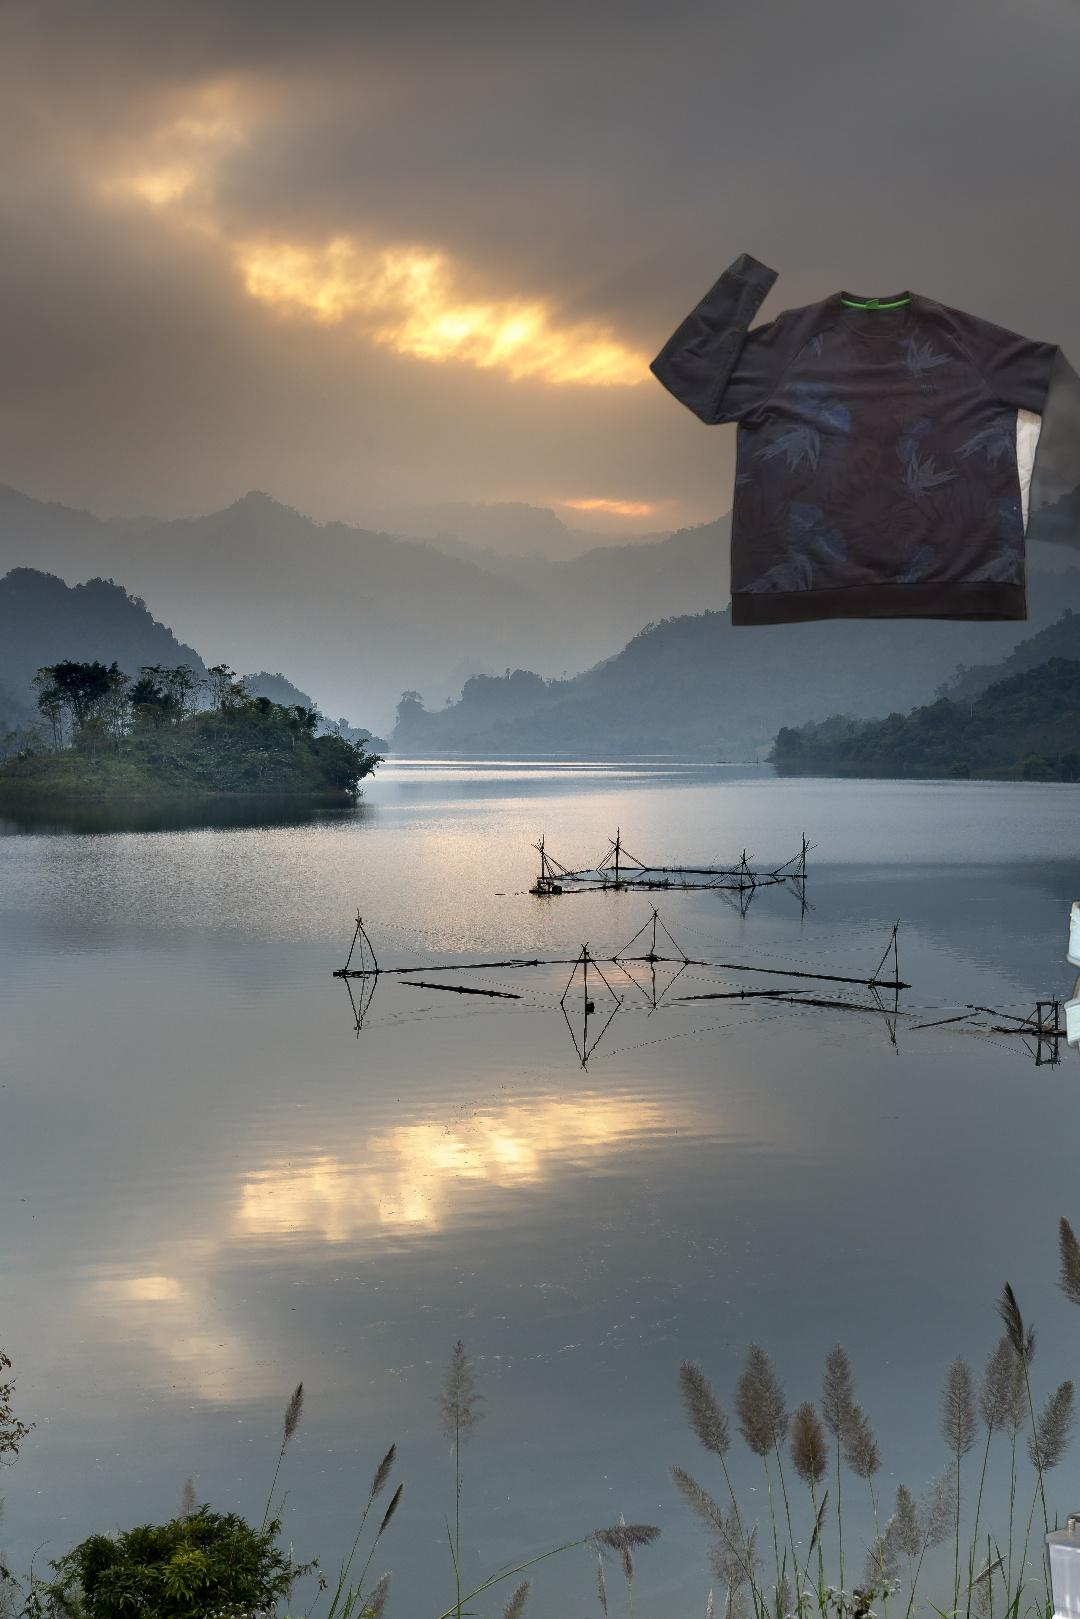battery: (1041, 1501, 1080, 1619)
clothes: (646, 251, 1080, 641)
shoes: (1051, 828, 1080, 1105)
